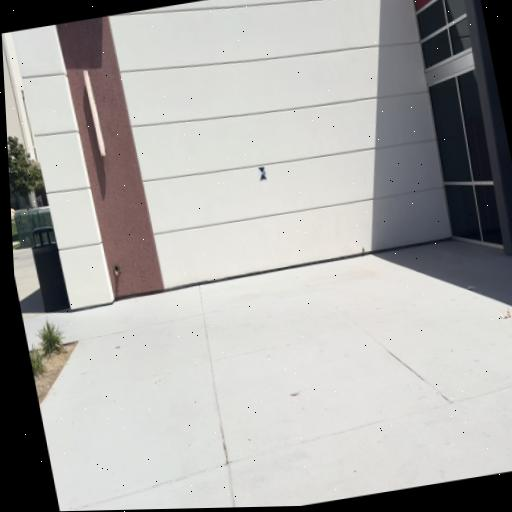target0: (258, 166, 268, 180)
